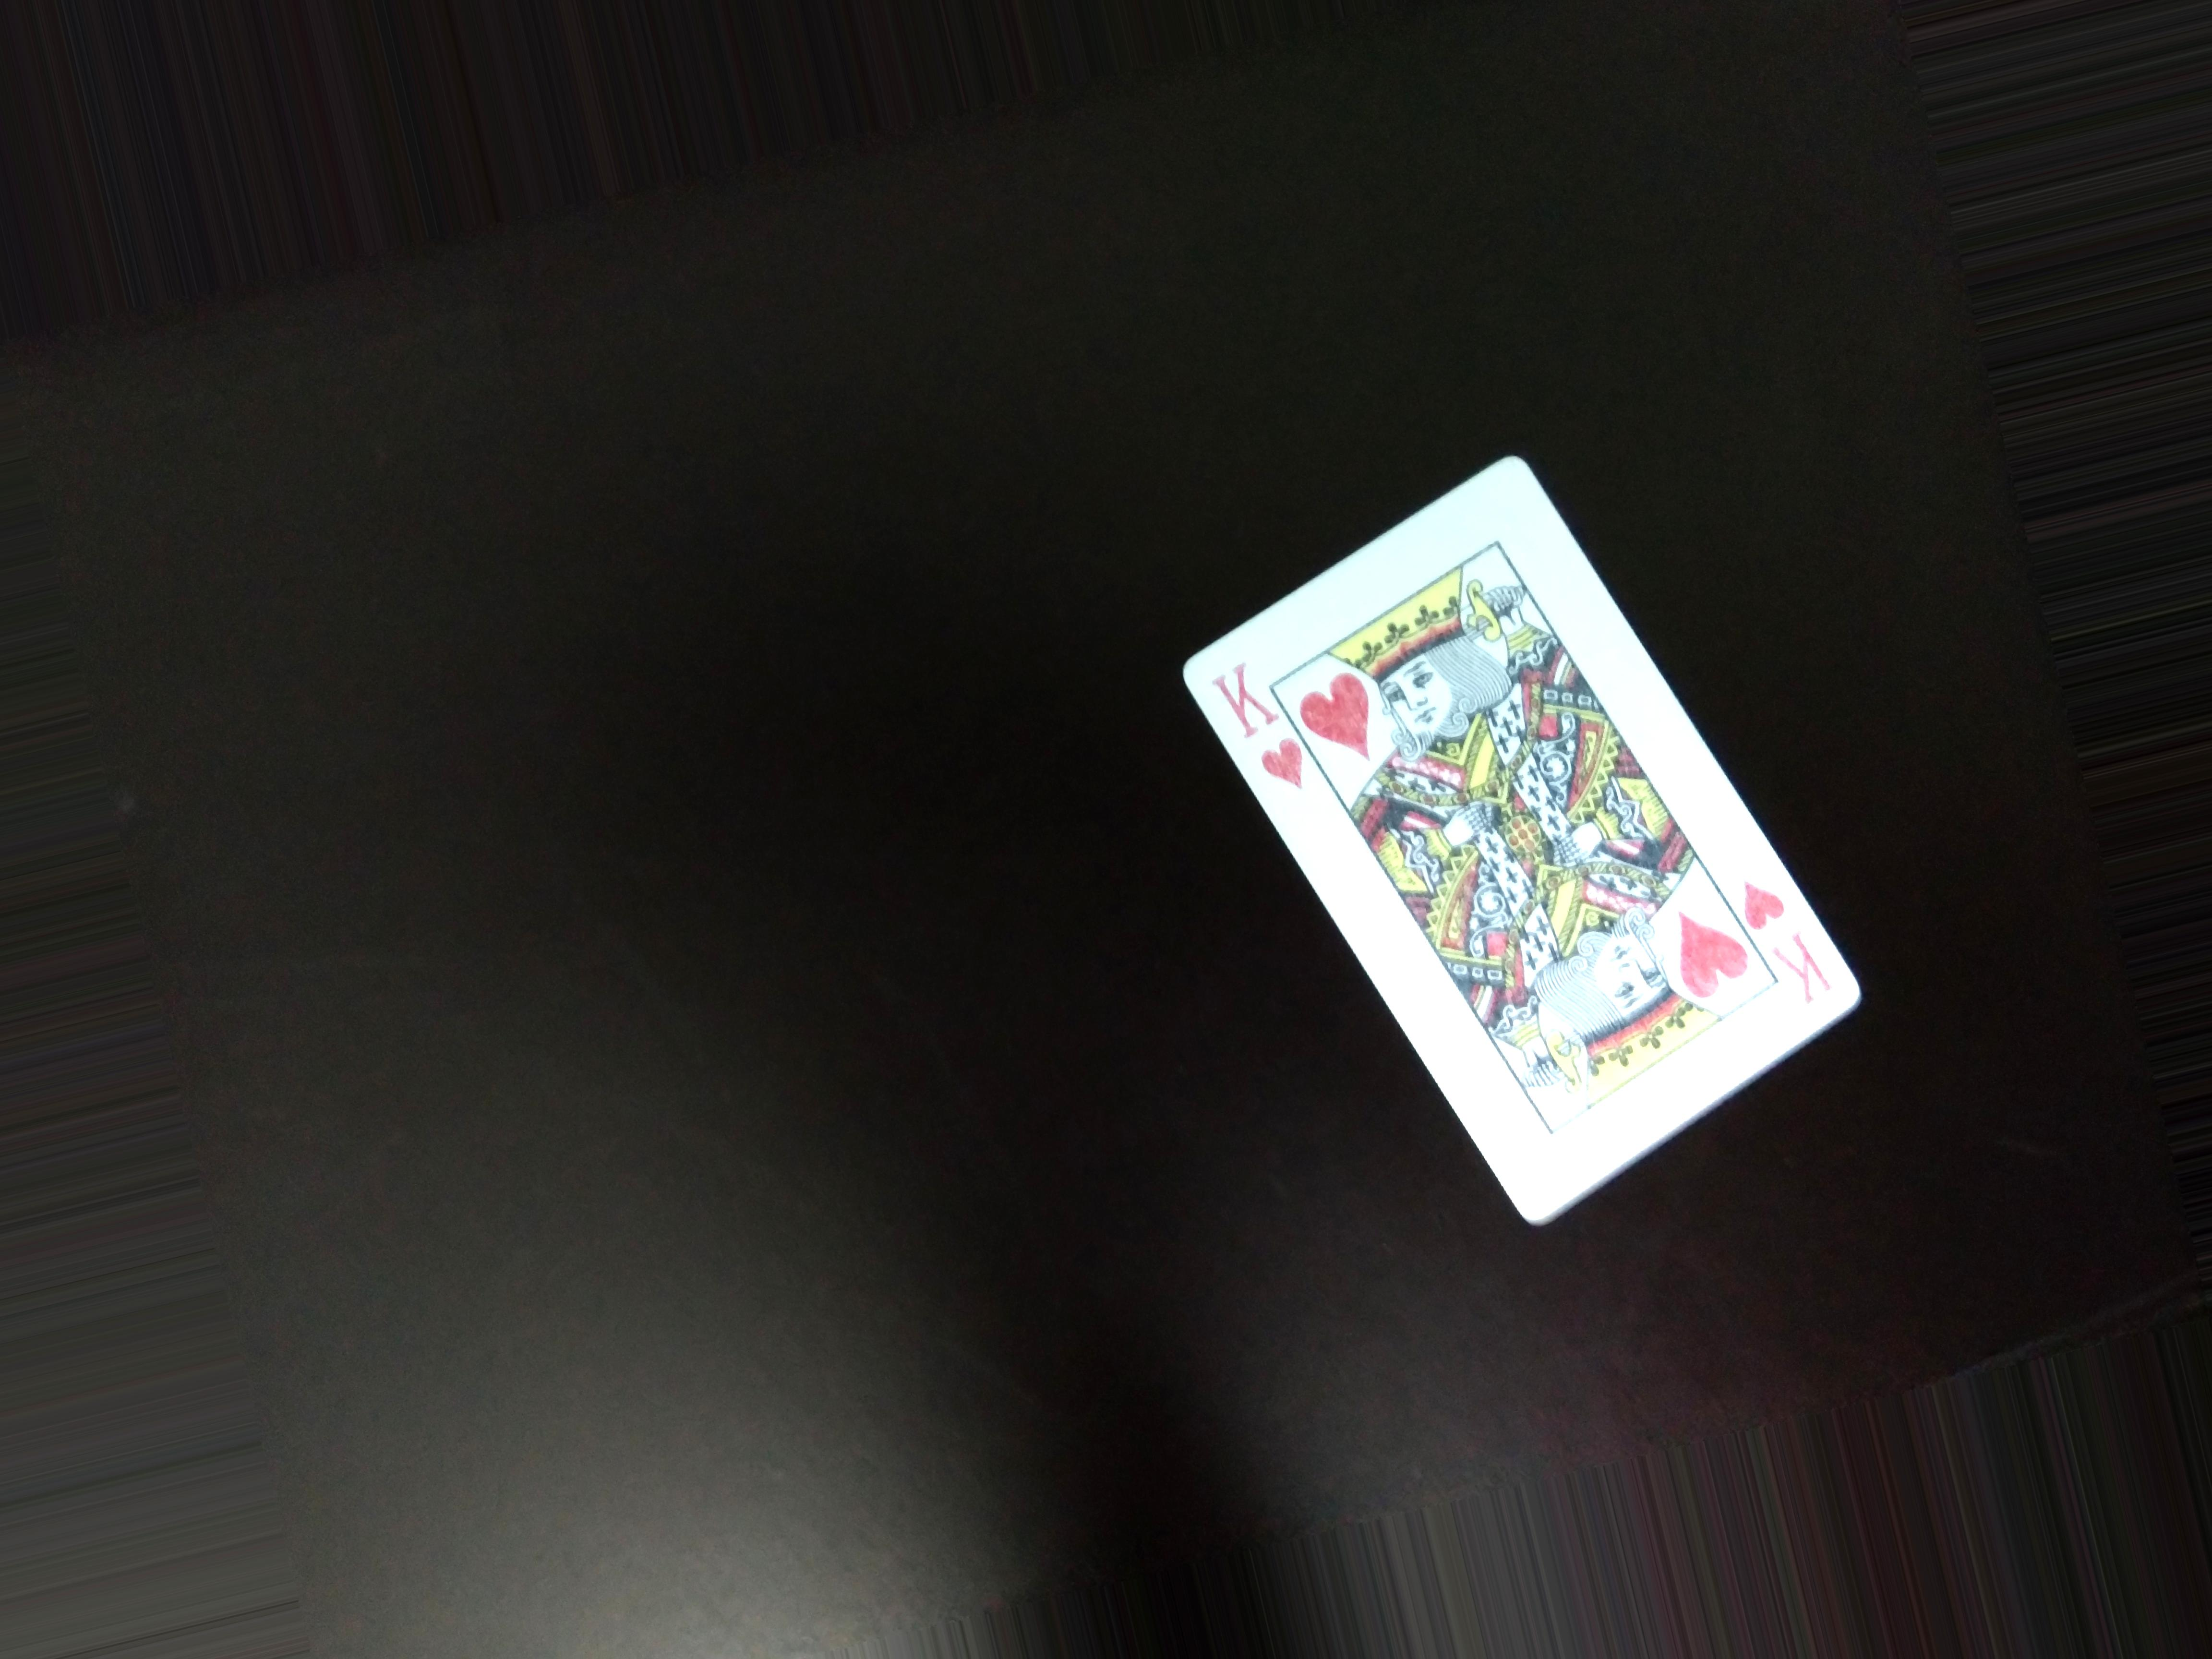KH: (1202, 648, 1306, 800)
